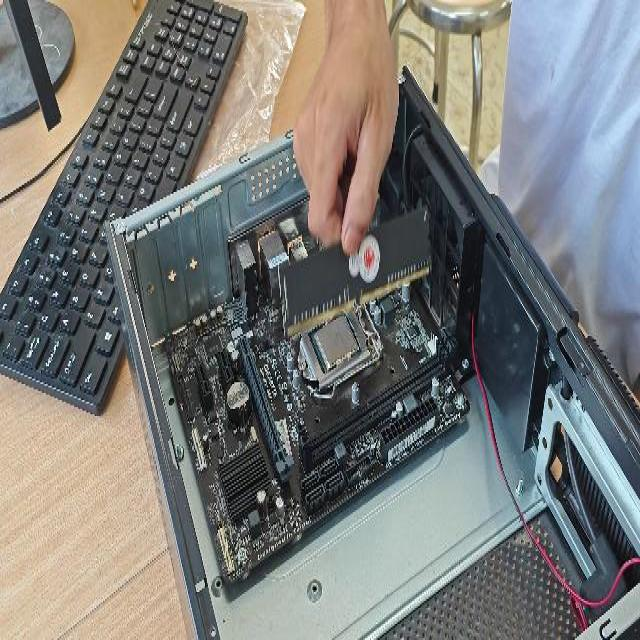CPU: (310, 310, 362, 374)
Mainboard: (164, 214, 471, 582)
RAM: (277, 204, 434, 338)
